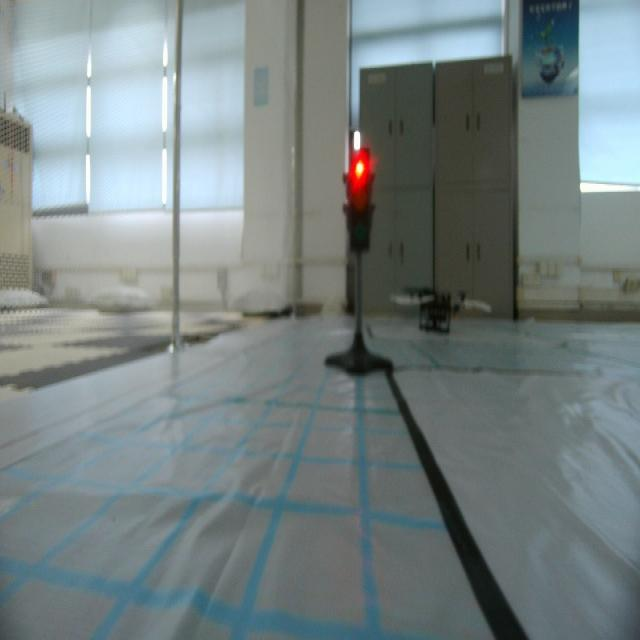red: (340, 147, 374, 255)
